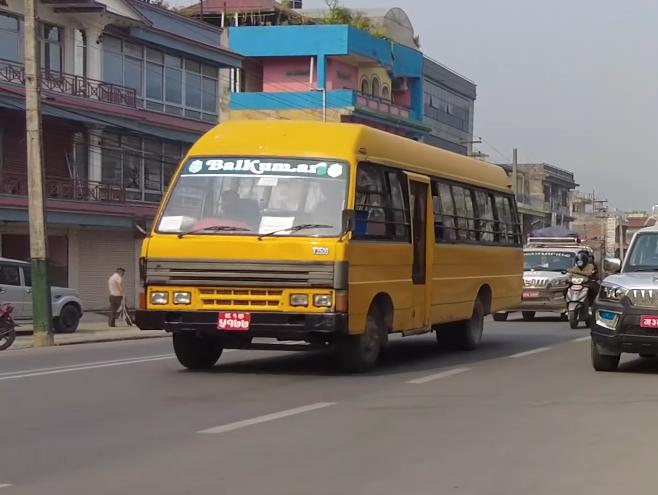SUV: (586, 217, 658, 376), (505, 236, 592, 321), (0, 254, 85, 334)
school_bus: (125, 107, 529, 379)
scooter: (558, 266, 594, 329)
